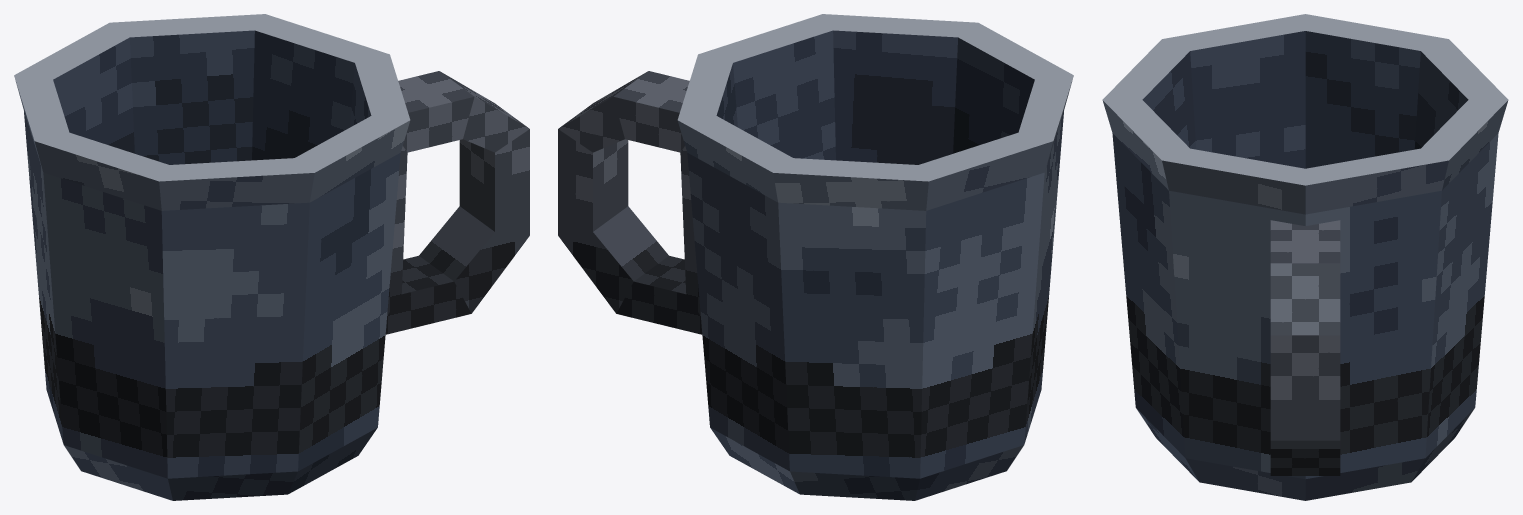
File: SM_Prop_TinMug_01.glb
3 renders of one model, left to right at view 1: azimuth 30°, elevation 25°; view 2: azimuth 150°, elevation 25°; view 3: azimuth 270°, elevation 25°, orthographic.
Parts seen in each view (by area): view 1: hollow_cup, loop_handle; view 2: hollow_cup, loop_handle; view 3: hollow_cup, loop_handle.
Boxes of the visible parts, x1,y1,x2,y2 form: hollow_cup: (14, 14, 410, 500); loop_handle: (385, 71, 529, 334); hollow_cup: (677, 14, 1073, 500); loop_handle: (558, 71, 702, 334); hollow_cup: (1102, 14, 1508, 500); loop_handle: (1270, 220, 1340, 475).
Bounding box in the file's own units: 0.164 × 0.112 × 0.122.
Materials: 1 (1 with a texture image).
